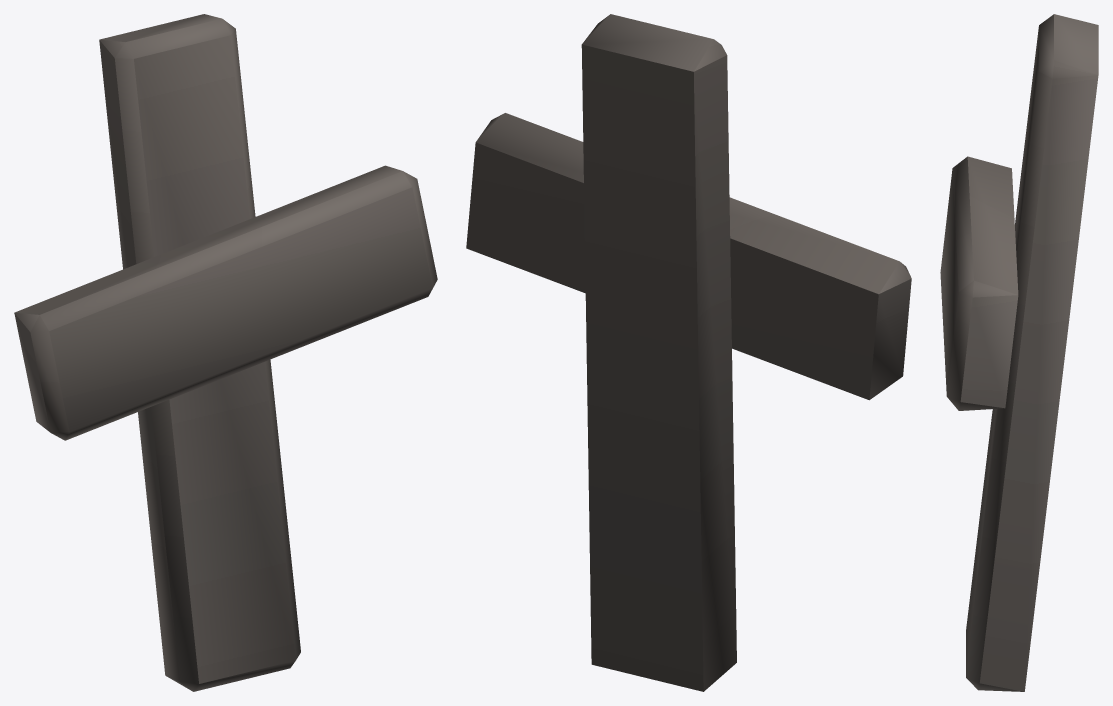
Rendered from decor-gravemarker.glb.
3 views of the same model, side by side, from view 1: azimuth 30°, elevation 25°; view 2: azimuth 150°, elevation 25°; view 3: azimuth 270°, elevation 25° (orthographic). The views are drawn at different scales.
Visible parts, largest first — view 1: gravemarker_A; view 2: gravemarker_A; view 3: gravemarker_A.
Part boxes in pixels (x1,y1,x2,y2): gravemarker_A: [14, 14, 437, 691]; gravemarker_A: [466, 14, 911, 691]; gravemarker_A: [940, 14, 1098, 691].
Bounding box in the file's own units: 0.806 × 1.2 × 0.2782.
1 material, 1 textured.
